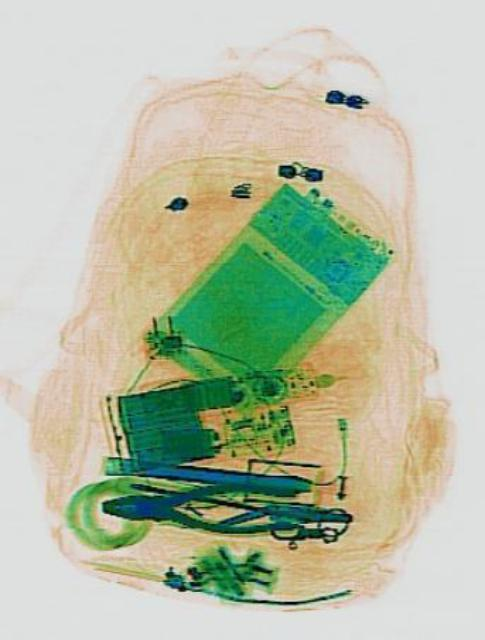Pliers: (99, 480, 294, 530)
